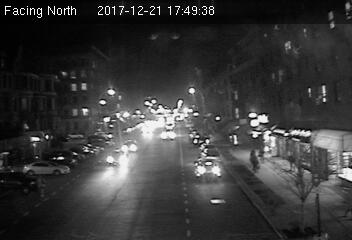car: (195, 157, 222, 181), (120, 139, 139, 153), (159, 129, 176, 141)
